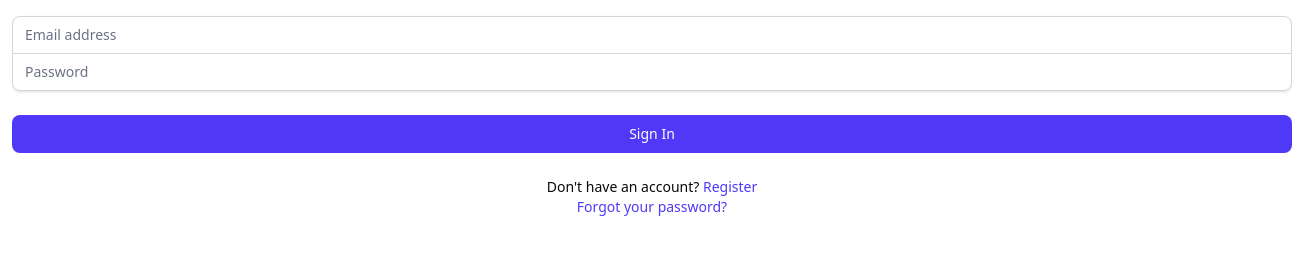
Test: LoginForm Component › handles generic error message
The width and height of the screenshot is (1304, 277).
In the field with placeholder "Email address": (652, 35) [12,16,1292,54], type "test@example.com"
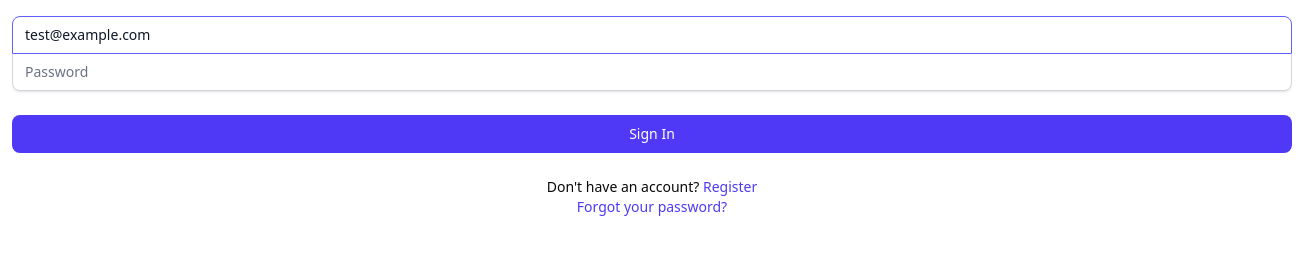
In the password field with placeholder "Password": (652, 72) [12,53,1292,91], type "password123"
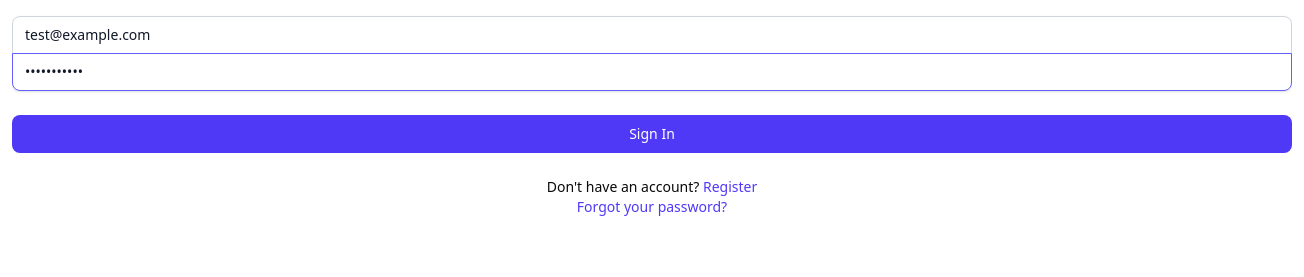
Click the button "Sign In": (652, 134) [12,115,1292,153]
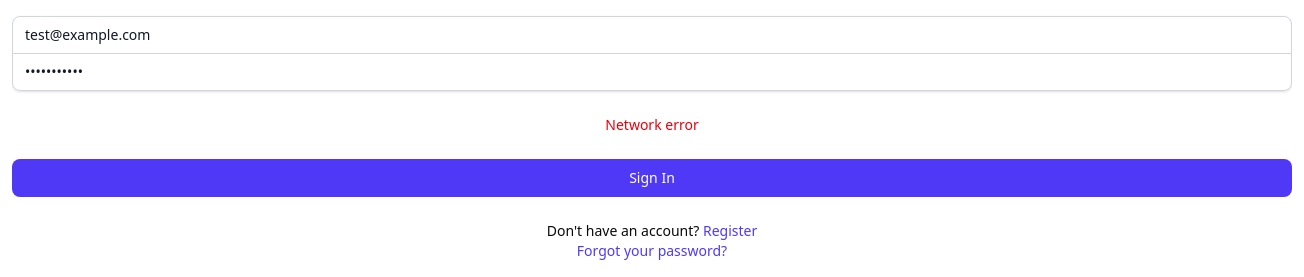
Expected: the text "Network error" is shown, [605,115,699,134]
